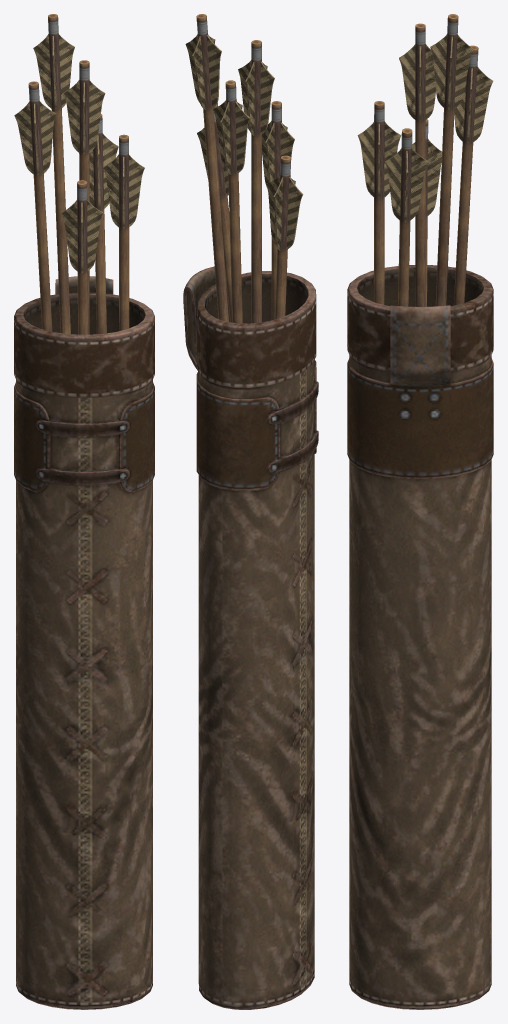
Rendered from Quiver_Arrows_01.fbx.
3 renders of one model, left to right at view 1: azimuth 90°, elevation 25°; view 2: azimuth 150°, elevation 25°; view 3: azimuth 270°, elevation 25°, orthographic. The views are drawn at different scales.
Parts seen in each view (by area): view 1: Quiver_Arrows_01_LOD0; view 2: Quiver_Arrows_01_LOD0; view 3: Quiver_Arrows_01_LOD0.
Part boxes in pixels (x1=…): Quiver_Arrows_01_LOD0: x1=14, y1=14, x2=154, y2=1009; Quiver_Arrows_01_LOD0: x1=183, y1=14, x2=318, y2=1009; Quiver_Arrows_01_LOD0: x1=347, y1=14, x2=493, y2=1009.
Size of what is drawn, in the model's own units: 9.58 by 77.09 by 10.32.
